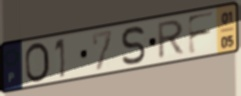1: (53, 36, 67, 79)
7: (91, 28, 113, 73)
F: (186, 10, 217, 57)
O: (23, 41, 52, 85)
R: (156, 18, 187, 62)
S: (120, 24, 147, 67)
